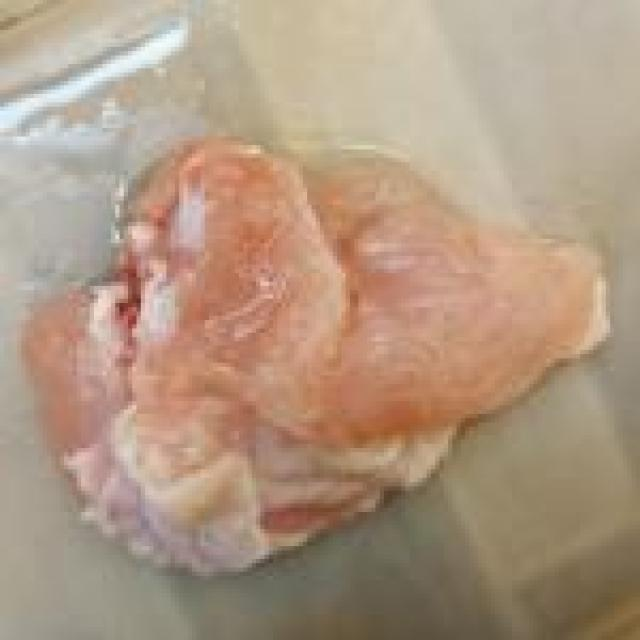breast: (53, 127, 602, 560)
